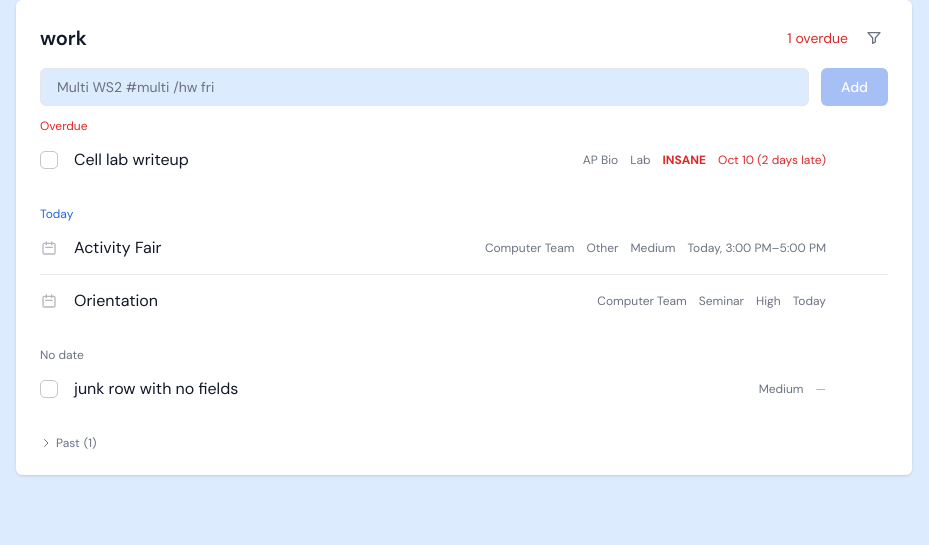
Test: with the setting on, past events start closed and open on click
Expected: the text "Club fair yesterday" is not shown
Click the button "Past (1)": click(68, 443) [40,435,96,451]
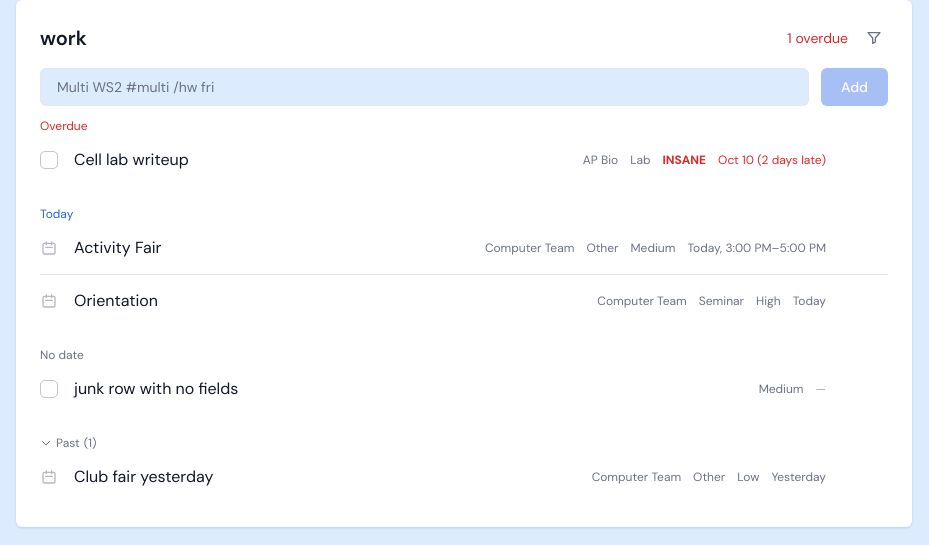
Expected: the button "Past (1)" is expanded
Expected: the button "Club fair yesterday" is shown, [68,463,574,491]
Click the button "Past (1)": click(68, 443) [40,435,96,451]
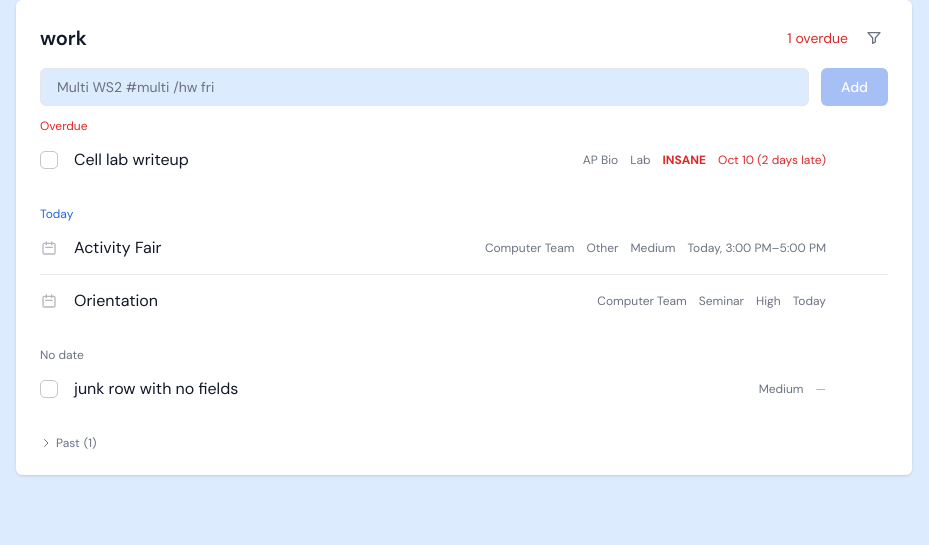
Expected: the button "Club fair yesterday" is gone
